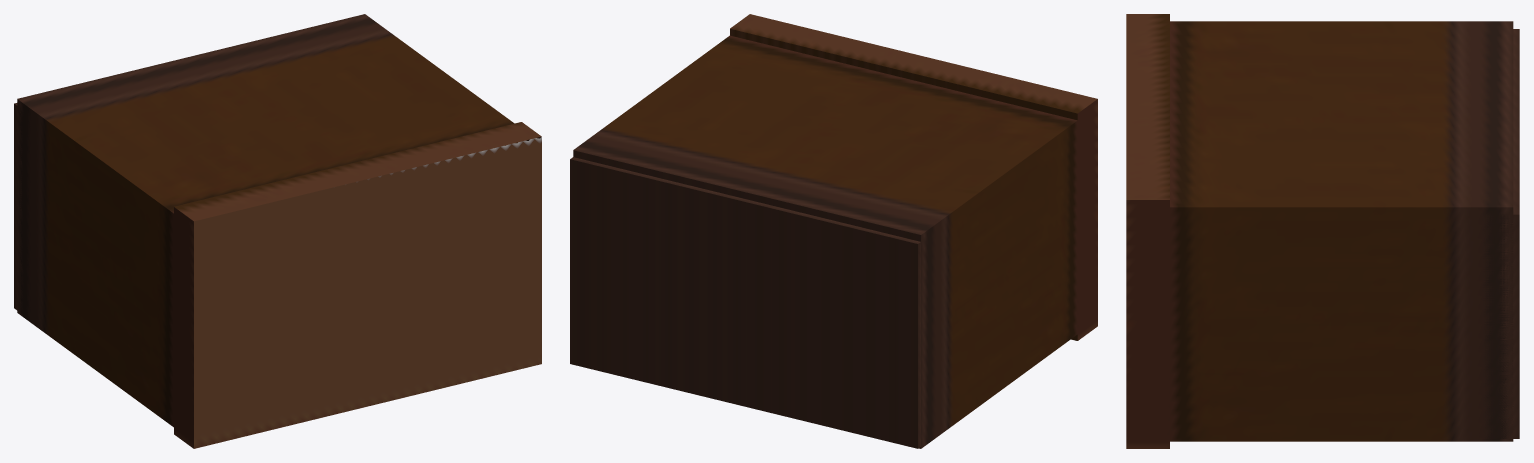
Rendered from pz_counter_dark_oak_floor.obj.
3 views of the same model, side by side, from view 1: azimuth 30°, elevation 25°; view 2: azimuth 150°, elevation 25°; view 3: azimuth 270°, elevation 25° (orthographic). The views are drawn at different scales.
Bounding box in the file's own units: 1 × 0.6266 × 0.895.
1 material, 1 textured.
